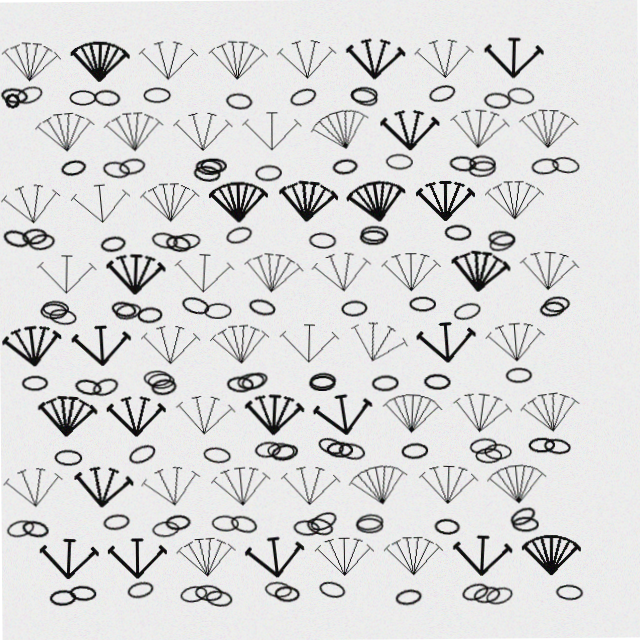chain: (306, 508, 338, 534), (506, 505, 537, 531), (125, 440, 157, 465), (290, 85, 320, 109), (488, 232, 518, 256), (90, 373, 120, 397), (180, 293, 211, 316), (452, 301, 483, 324), (16, 81, 46, 104), (351, 86, 381, 109), (429, 83, 459, 106), (225, 223, 255, 246), (239, 369, 269, 392), (315, 435, 345, 458), (227, 512, 257, 535), (303, 515, 333, 538), (2, 225, 32, 247), (247, 296, 277, 318), (4, 515, 34, 537), (315, 579, 345, 601), (482, 586, 512, 608), (458, 582, 488, 604), (508, 87, 537, 108), (151, 229, 180, 250), (73, 375, 102, 396), (336, 441, 365, 462), (19, 516, 48, 537), (124, 578, 153, 599), (552, 157, 582, 177), (48, 305, 78, 325), (165, 232, 193, 253), (103, 158, 132, 178), (119, 155, 148, 175), (114, 300, 143, 320), (269, 442, 298, 462), (177, 583, 206, 603), (392, 588, 421, 608), (470, 586, 499, 606), (201, 445, 231, 464), (61, 156, 89, 176), (110, 298, 138, 318), (28, 230, 57, 249), (173, 231, 202, 250), (236, 371, 265, 390), (468, 438, 497, 457), (202, 588, 231, 607), (2, 84, 30, 103), (227, 91, 255, 110), (194, 163, 222, 182), (100, 233, 128, 252), (542, 439, 570, 458), (101, 511, 129, 530), (354, 513, 382, 532), (262, 580, 290, 599), (469, 161, 498, 179), (532, 159, 561, 177), (192, 583, 221, 601), (150, 376, 177, 395), (95, 87, 123, 105), (485, 93, 513, 111), (196, 157, 224, 175), (450, 156, 478, 174), (488, 231, 516, 249), (543, 297, 571, 315), (253, 440, 281, 458), (150, 519, 178, 537), (291, 519, 319, 537), (333, 158, 360, 176), (22, 225, 49, 243), (539, 302, 566, 320), (309, 232, 337, 249), (53, 447, 81, 464), (266, 442, 294, 459), (553, 586, 581, 603), (256, 164, 283, 181), (387, 154, 414, 171), (470, 156, 497, 173), (445, 225, 472, 242), (42, 298, 69, 315), (341, 300, 368, 317), (226, 375, 253, 392), (309, 372, 336, 389), (371, 375, 398, 392), (423, 374, 450, 391), (325, 441, 352, 458), (400, 443, 427, 460), (163, 513, 190, 530), (210, 514, 237, 531), (432, 519, 459, 536), (67, 583, 94, 600), (47, 587, 74, 604), (145, 86, 173, 102), (352, 87, 380, 103), (361, 226, 389, 242), (204, 302, 232, 318), (143, 369, 171, 385), (483, 445, 511, 461), (354, 518, 382, 534), (137, 305, 163, 322), (272, 585, 298, 602), (71, 88, 98, 104), (201, 157, 228, 173), (360, 230, 387, 246), (40, 301, 67, 317), (409, 297, 436, 313), (21, 373, 48, 389), (147, 372, 174, 388), (308, 375, 335, 391), (505, 369, 532, 385), (474, 449, 501, 465), (527, 439, 554, 455), (510, 518, 537, 534)
fan: (343, 314, 412, 373), (309, 102, 377, 159), (345, 459, 411, 513), (138, 459, 203, 512), (346, 176, 410, 228), (311, 389, 375, 441), (449, 389, 513, 440), (518, 389, 582, 440), (1, 177, 64, 227), (242, 248, 305, 298), (449, 248, 512, 298), (1, 319, 64, 369), (242, 532, 305, 582), (311, 248, 374, 297), (1, 461, 64, 510), (36, 106, 98, 155), (450, 106, 512, 155), (278, 177, 340, 226), (71, 461, 133, 510), (2, 36, 64, 84), (71, 178, 133, 226), (209, 320, 271, 368), (209, 462, 271, 510), (485, 462, 547, 510), (519, 249, 580, 297), (485, 320, 546, 368), (347, 36, 408, 83), (105, 107, 166, 154), (174, 249, 235, 296), (416, 320, 477, 367), (36, 391, 97, 438), (174, 391, 235, 438), (243, 391, 304, 438), (381, 391, 442, 438), (174, 533, 235, 580), (416, 37, 477, 83), (71, 321, 132, 367), (450, 534, 511, 580), (72, 37, 132, 83), (210, 37, 270, 83), (520, 108, 580, 154), (106, 250, 166, 296), (279, 463, 339, 509), (417, 463, 477, 509), (37, 534, 97, 580), (279, 37, 339, 82), (486, 37, 546, 82), (141, 179, 201, 224), (37, 250, 97, 295), (279, 321, 339, 366), (141, 37, 200, 82), (210, 179, 269, 224), (175, 109, 234, 153), (244, 109, 303, 153), (382, 109, 441, 153), (417, 180, 476, 224), (486, 180, 545, 224), (382, 251, 441, 295), (141, 322, 200, 366), (106, 393, 165, 437), (106, 535, 165, 579), (313, 535, 372, 579), (382, 535, 441, 579), (520, 535, 579, 579)
noise: (5, 89, 24, 108)
